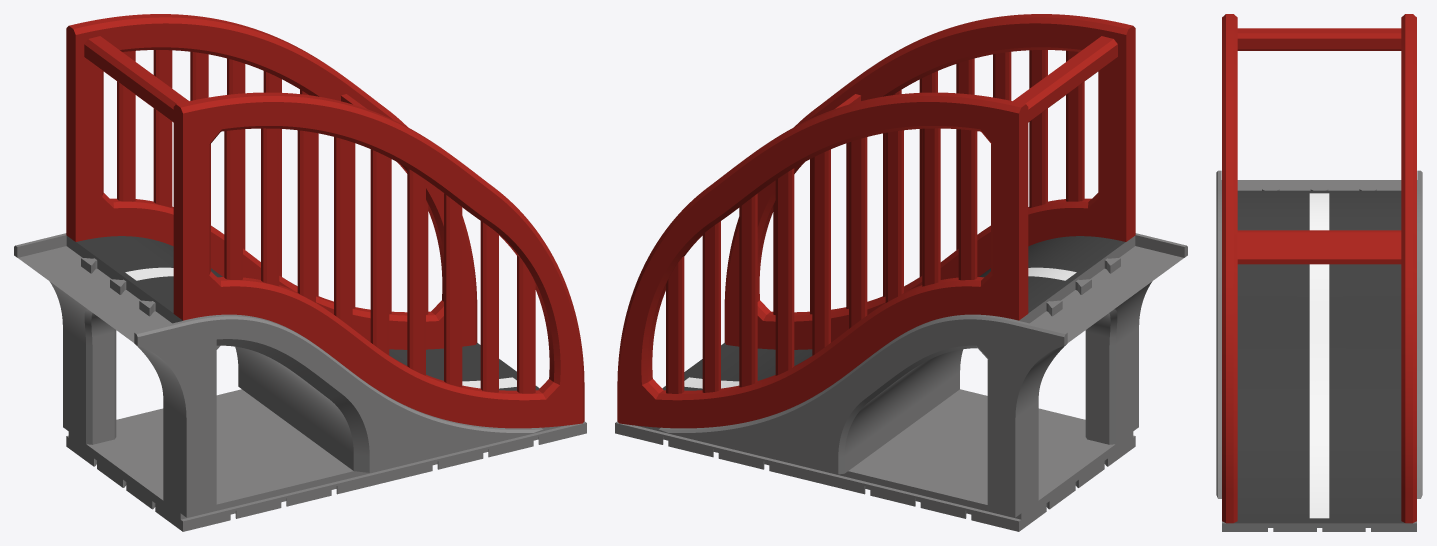
The model's file is 10x20 Street Ramp.obj.
The picture shows the model from 3 angles, left to right: view 1: azimuth 30°, elevation 25°; view 2: azimuth 150°, elevation 25°; view 3: azimuth 270°, elevation 25°; orthographic projection. The views are drawn at different scales.
Parts seen in each view (by area): view 1: Körper1:1, Körper1:12, Körper1:22, Körper1, Körper1:4, Körper1:6, Körper1:8, Körper1:3, Körper1:11, Körper1:5, Körper1:25, Körper1:10 (+10 smaller); view 2: Körper1:1, Körper1:22, Körper1:12, Körper1:2, Körper1:16, Körper1:14, Körper1:18, Körper1:13, Körper1:21, Körper1:15, Körper1:25, Körper1:19 (+9 smaller); view 3: Körper1:1, Körper1:12, Körper1:22, Körper1:23, Körper1:24, Körper1:25, Körper1, Körper1:2.
Part boxes in pixels (box(x1,y1,x2,y2)): Körper1:1: box(20, 236, 586, 531); Körper1:12: box(173, 92, 584, 428); Körper1:22: box(66, 14, 477, 349); Körper1: box(132, 314, 542, 517); Körper1:4: box(370, 149, 389, 355); Körper1:6: box(407, 168, 425, 375); Körper1:8: box(444, 193, 462, 387); Körper1:3: box(334, 137, 352, 328); Körper1:11: box(297, 130, 315, 302); Körper1:5: box(480, 221, 498, 392); Körper1:25: box(84, 36, 188, 122); Körper1:10: box(261, 128, 279, 286); Körper1:1: box(615, 236, 1181, 531); Körper1:22: box(617, 92, 1028, 428); Körper1:12: box(724, 14, 1135, 349); Körper1:2: box(659, 314, 1069, 517); Körper1:16: box(775, 168, 794, 375); Körper1:14: box(812, 149, 830, 355); Körper1:18: box(739, 193, 757, 387); Körper1:13: box(849, 137, 867, 328); Körper1:21: box(885, 130, 903, 302); Körper1:15: box(702, 221, 720, 392); Körper1:25: box(1013, 36, 1117, 122); Körper1:19: box(958, 129, 977, 280); Körper1:1: box(1222, 180, 1416, 531); Körper1:12: box(1222, 14, 1237, 523); Körper1:22: box(1401, 14, 1416, 523); Körper1:23: box(1309, 193, 1329, 518); Körper1:24: box(1237, 230, 1401, 264); Körper1:25: box(1237, 28, 1401, 50); Körper1: box(1216, 170, 1221, 498); Körper1:2: box(1417, 170, 1422, 498).
Bounding box in the file's own units: 224 × 200 × 106.
